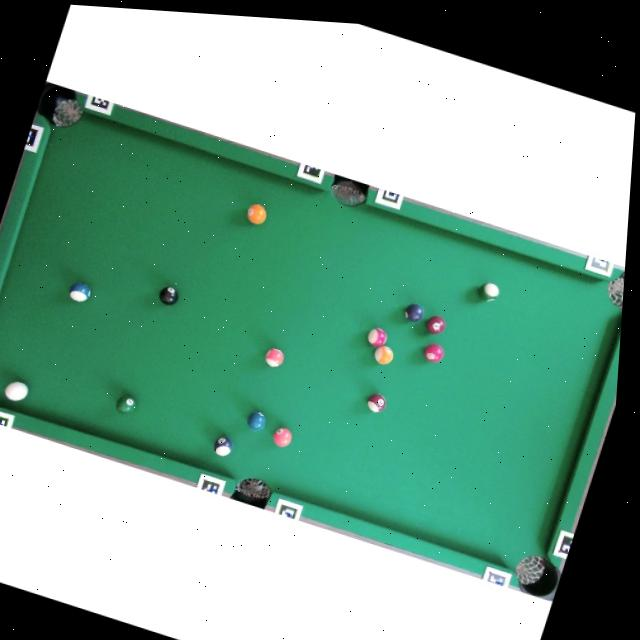cue ball: (1, 377, 30, 405)
other: (66, 278, 93, 305), (243, 200, 269, 227), (475, 279, 502, 305), (370, 342, 396, 368), (364, 325, 391, 350), (113, 392, 139, 417), (261, 344, 286, 370), (420, 340, 446, 365), (269, 424, 294, 450), (244, 408, 269, 433), (156, 283, 180, 307), (423, 313, 447, 337), (364, 390, 388, 414), (401, 301, 425, 324), (211, 434, 234, 458)
